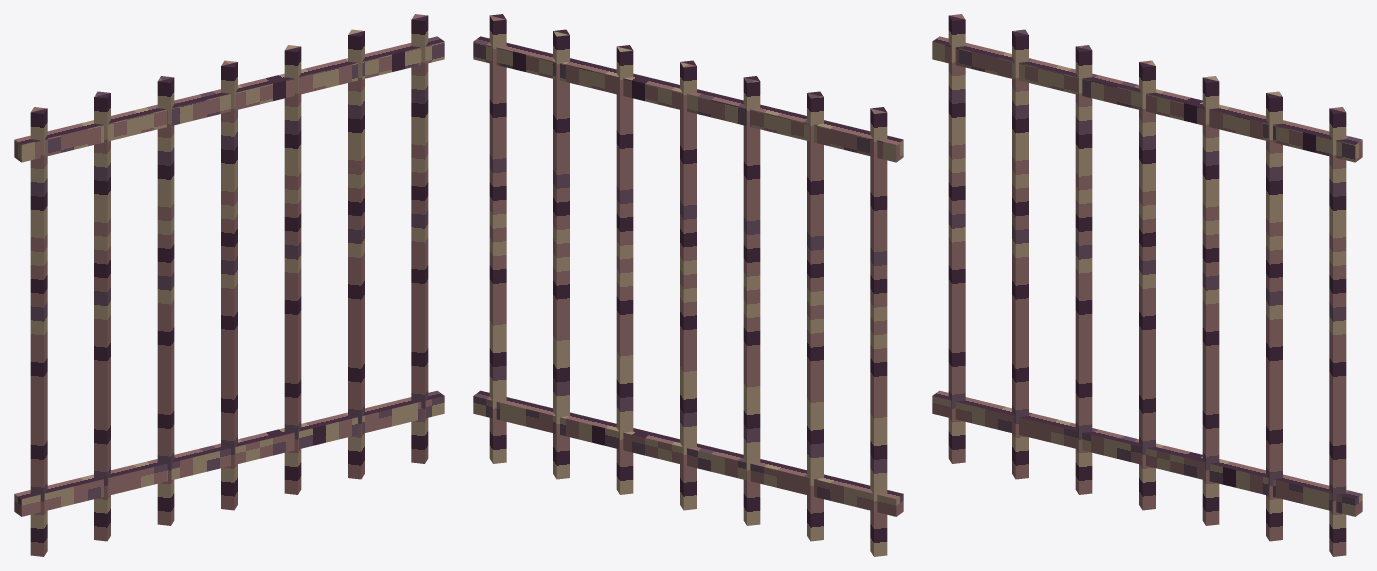
The model's file is vila_perolas_estendal_colares.glb.
The picture shows the model from 3 angles, left to right: view 1: azimuth 30°, elevation 25°; view 2: azimuth 150°, elevation 25°; view 3: azimuth 330°, elevation 25°; orthographic projection.
Visible parts, largest first — view 1: vila_perolas_estendal_colares; view 2: vila_perolas_estendal_colares; view 3: vila_perolas_estendal_colares.
Boxes of the visible parts, x1=… form: vila_perolas_estendal_colares: x1=14, y1=14, x2=444, y2=556; vila_perolas_estendal_colares: x1=473, y1=14, x2=903, y2=556; vila_perolas_estendal_colares: x1=932, y1=14, x2=1362, y2=556.
Bounding box in the file's own units: 2 × 2 × 0.08.
Materials: 1 (1 with a texture image).
